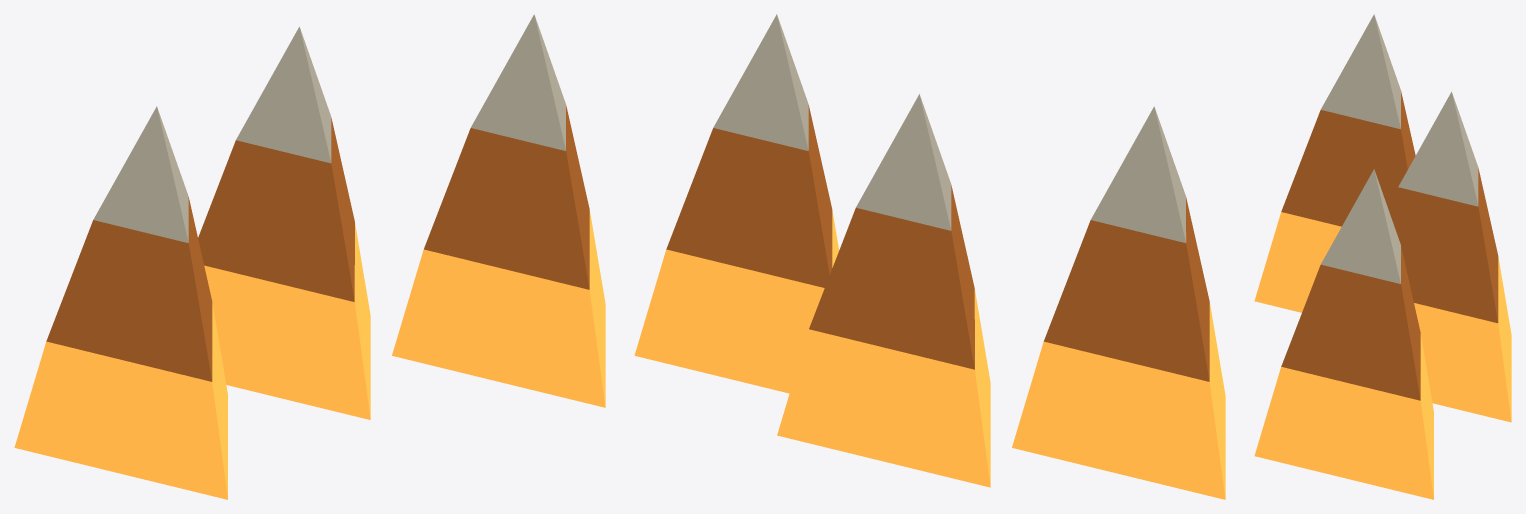
Rendered from moonlit-mischief-candy-corn-60bbf8e7__2188.glb.
The picture shows the model from 3 angles, left to right: view 1: azimuth 30°, elevation 25°; view 2: azimuth 150°, elevation 25°; view 3: azimuth 270°, elevation 25°; orthographic projection. The views are drawn at different scales.
Parts seen in each view (by area): view 1: candy-corn; view 2: candy-corn; view 3: candy-corn.
Boxes of the visible parts, box(x1,y1,x2,y2) form: candy-corn: box(14, 14, 605, 499); candy-corn: box(634, 14, 1225, 499); candy-corn: box(1254, 14, 1511, 499).
Size of the model in its own units: 0.4072 by 0.225 by 0.1825.
